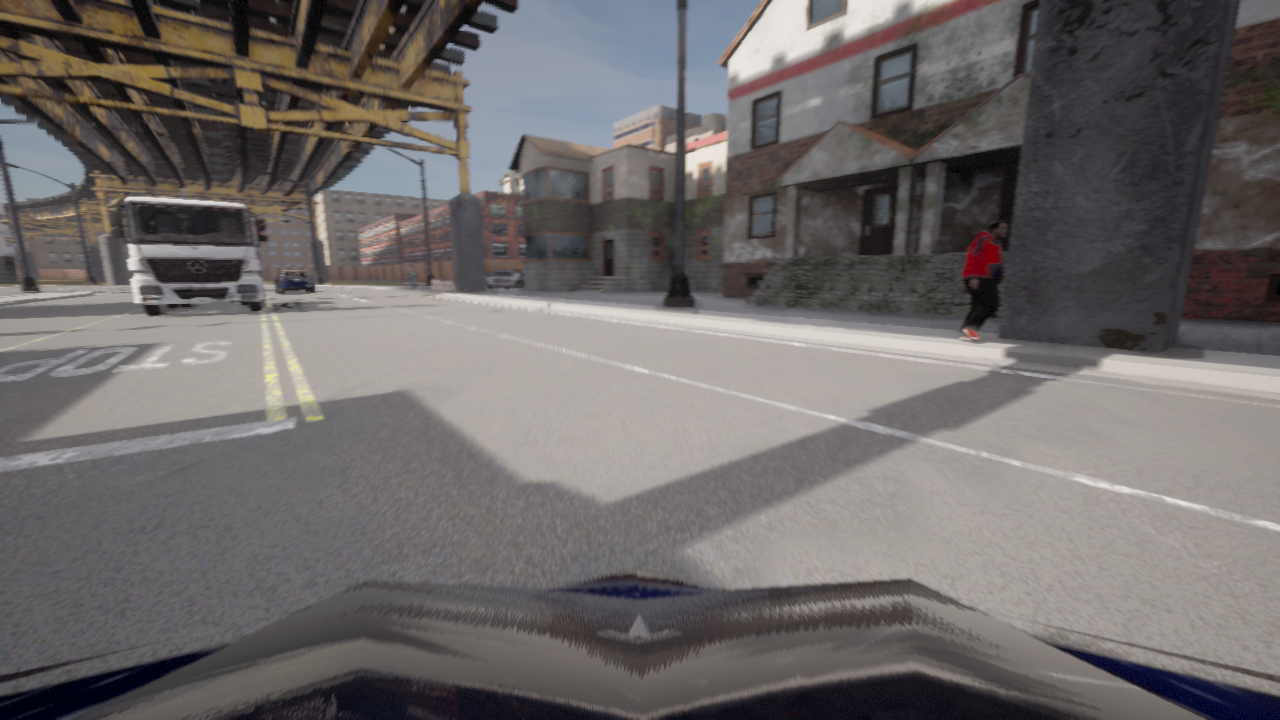cyclist: (0, 569, 1279, 719), (109, 196, 267, 315), (274, 270, 314, 293), (486, 269, 524, 288), (514, 269, 524, 273)
pedestrian: (959, 221, 1006, 341), (408, 264, 416, 286)
